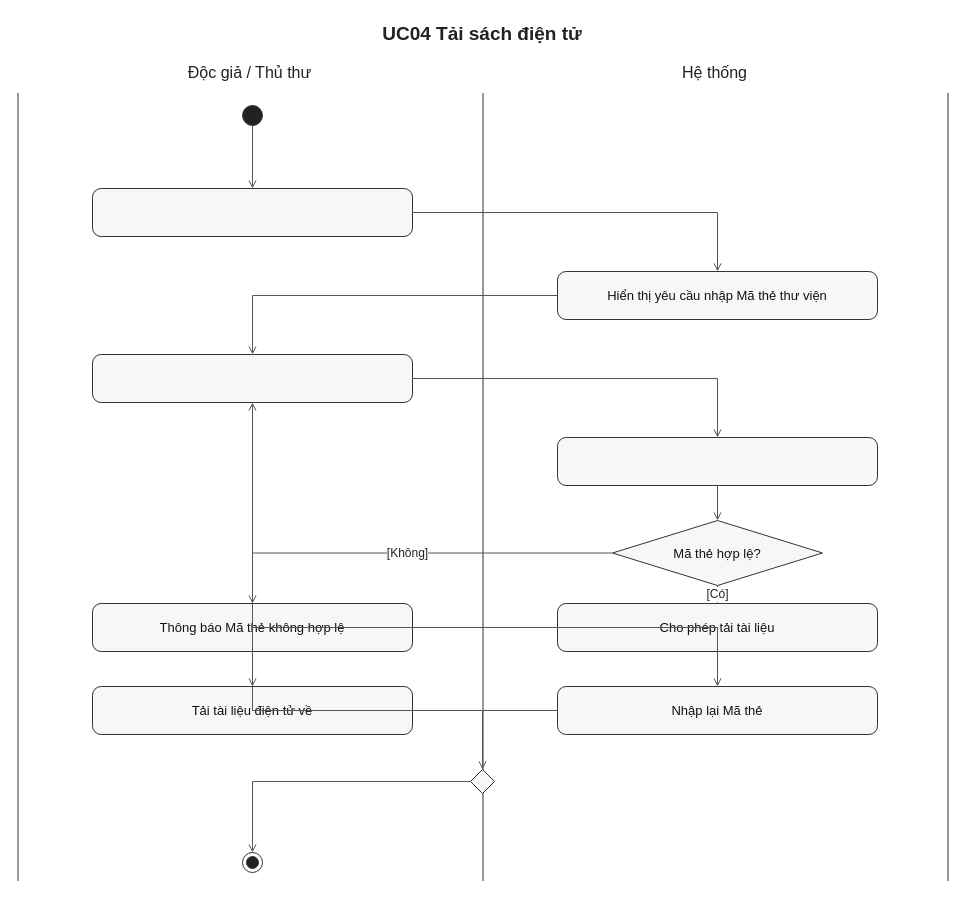
Image size: 966x898. Some labels were removed from this diagram. Here are the shapes that lost their labels. From the top down, the centre of each, then its label:
At [252,212]: "Chọn tài liệu điện tử cần tải".
At [252,378]: "Nhập Mã thẻ thư viện".
At [717,461]: "Kiểm tra Mã thẻ thư viện".
